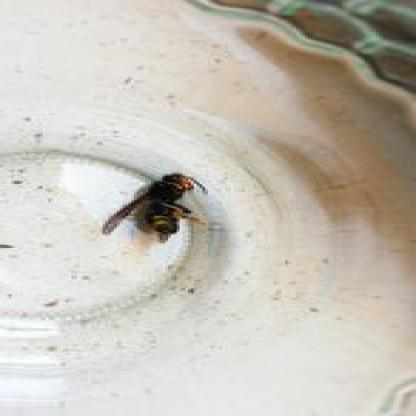Asian Hornet: (100, 163, 215, 243)
